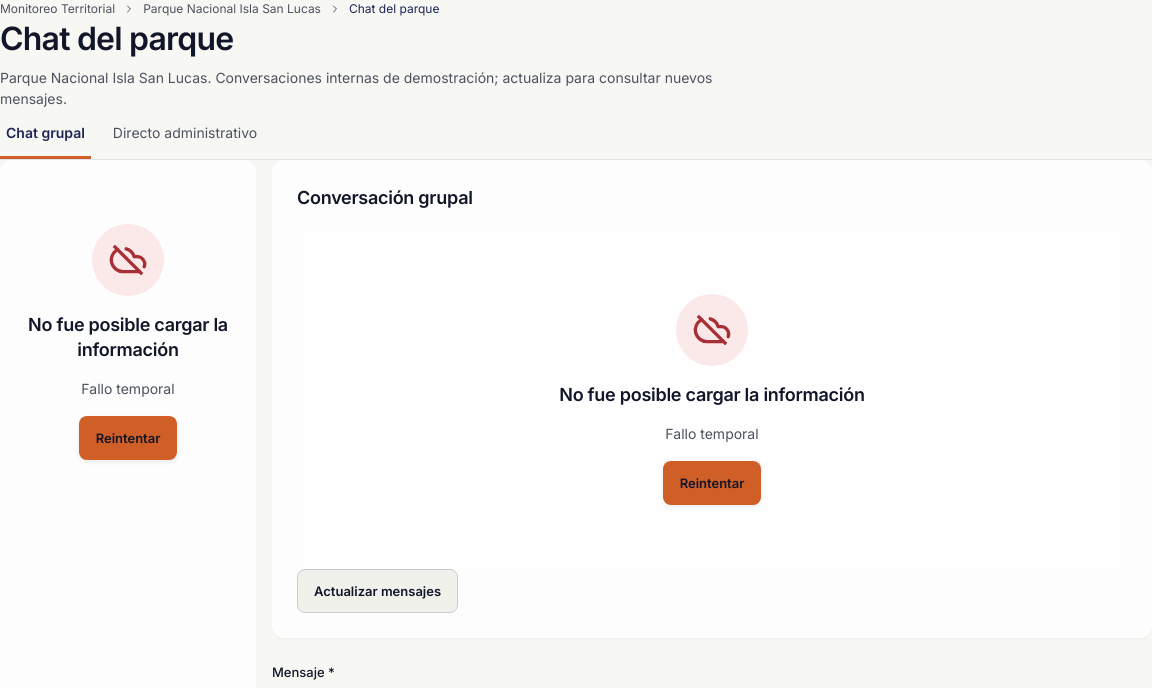
Test case: permite reintentar carga fallida y enviar después
This screenshot has width=1152, height=688.
Check: the 1st text "Fallo temporal" is shown, box [81,378,175,400]
Click the button "Actualizar mensajes": [378, 591] box [297,569,458,613]
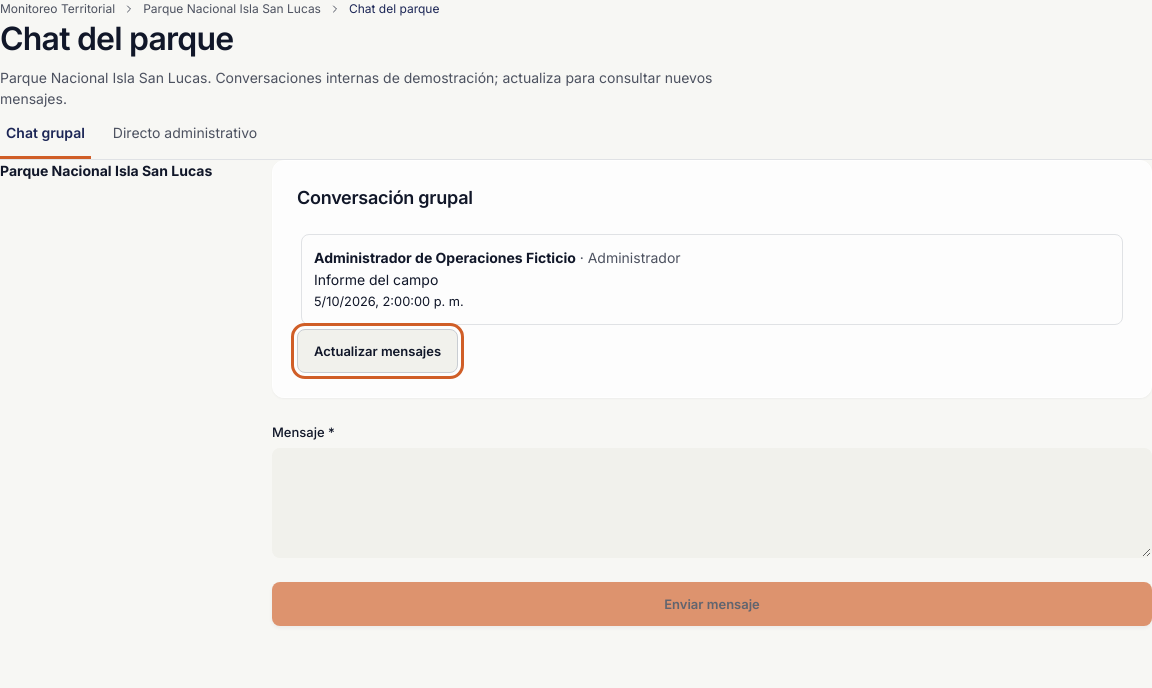
Check: the text "Informe del campo" is shown, box [314,270,438,288]
